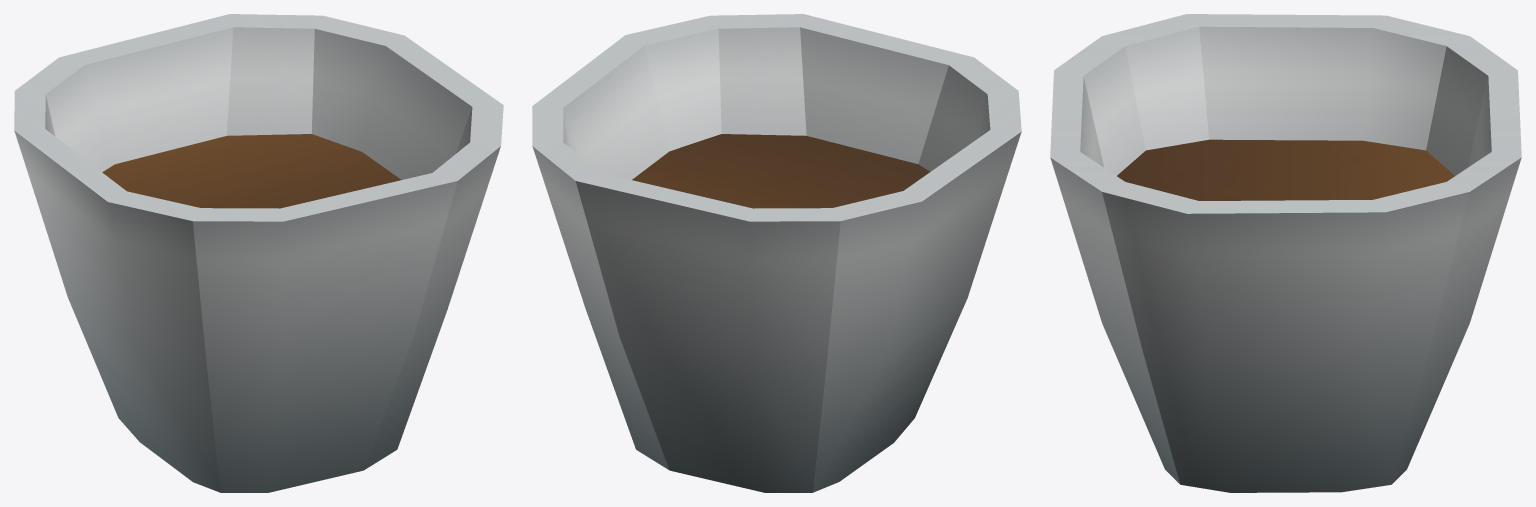
File: PlantPotLargeB.fbx
3 renders of one model, left to right at view 1: azimuth 30°, elevation 25°; view 2: azimuth 150°, elevation 25°; view 3: azimuth 270°, elevation 25°, orthographic. The views are drawn at different scales.
Visible parts, largest first — view 1: PlantPotLargeB; view 2: PlantPotLargeB; view 3: PlantPotLargeB.
Part boxes in pixels (box(x1,y1,x2,y2)): PlantPotLargeB: box(14, 14, 503, 492); PlantPotLargeB: box(532, 14, 1021, 492); PlantPotLargeB: box(1050, 14, 1521, 492).
Bounding box in the file's own units: 44.5 × 35.17 × 44.38.
